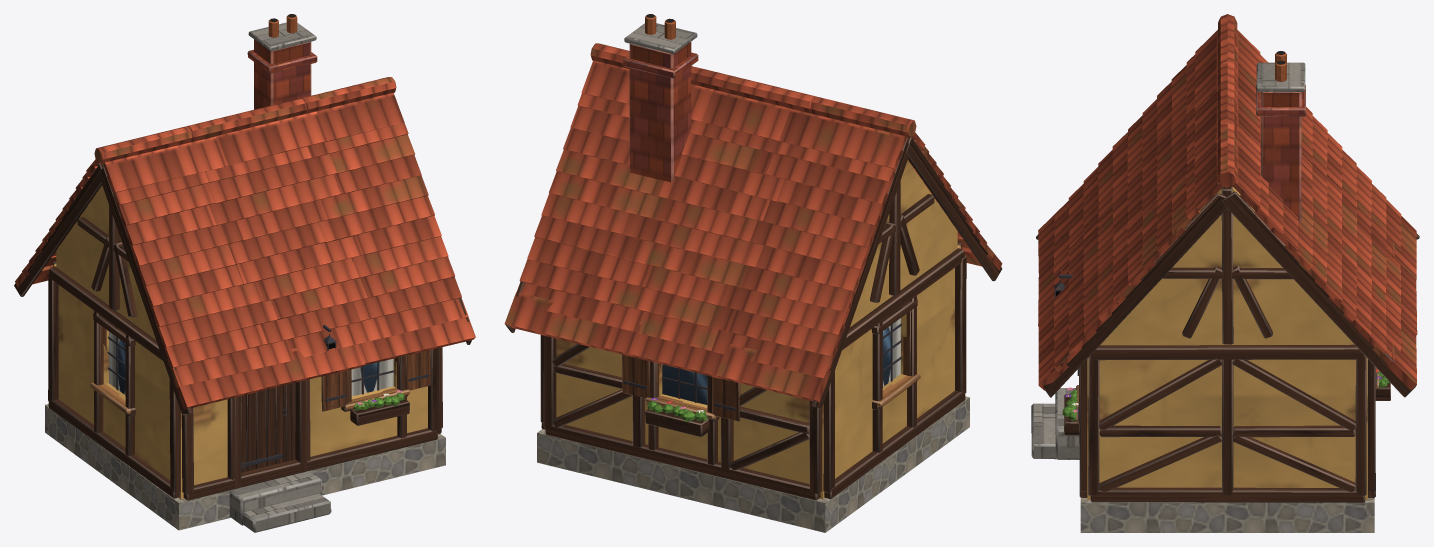
File: SM_Cottage_Small.obj
3 renders of one model, left to right at view 1: azimuth 30°, elevation 25°; view 2: azimuth 150°, elevation 25°; view 3: azimuth 270°, elevation 25°, orthographic. The views are drawn at different scales.
Parts seen in each view (by area): view 1: SM_Cottage_Small; view 2: SM_Cottage_Small; view 3: SM_Cottage_Small.
Boxes of the visible parts, x1,y1,x2,y2 form: SM_Cottage_Small: [14, 14, 475, 532]; SM_Cottage_Small: [504, 14, 1002, 532]; SM_Cottage_Small: [1031, 14, 1419, 532].
Size of the model in its own units: 5.02 by 6.5 by 5.23.
2 materials, 1 textured.
